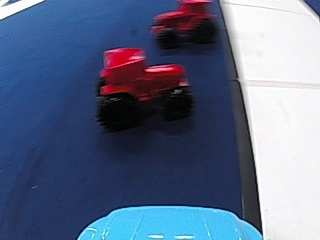tractor: (95, 41, 186, 131), (149, 3, 215, 48)
